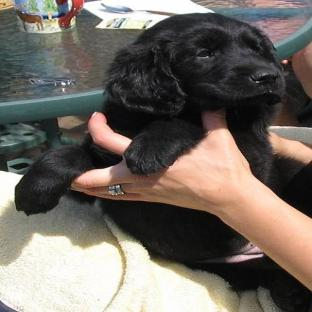Animal: (104, 13, 311, 217), (74, 192, 311, 311), (15, 135, 122, 215)
